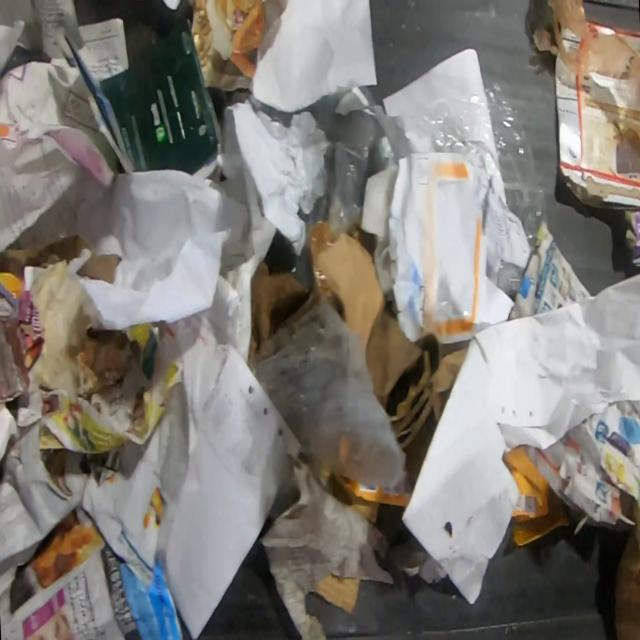cardboard: (250, 219, 468, 447), (401, 338, 520, 605), (99, 17, 224, 177), (554, 47, 640, 210), (613, 481, 640, 640), (0, 320, 48, 403), (592, 20, 640, 53), (624, 210, 640, 267)
soft_plastic: (250, 297, 409, 493), (414, 84, 547, 247), (308, 85, 396, 234), (545, 0, 640, 80), (489, 261, 522, 292)
